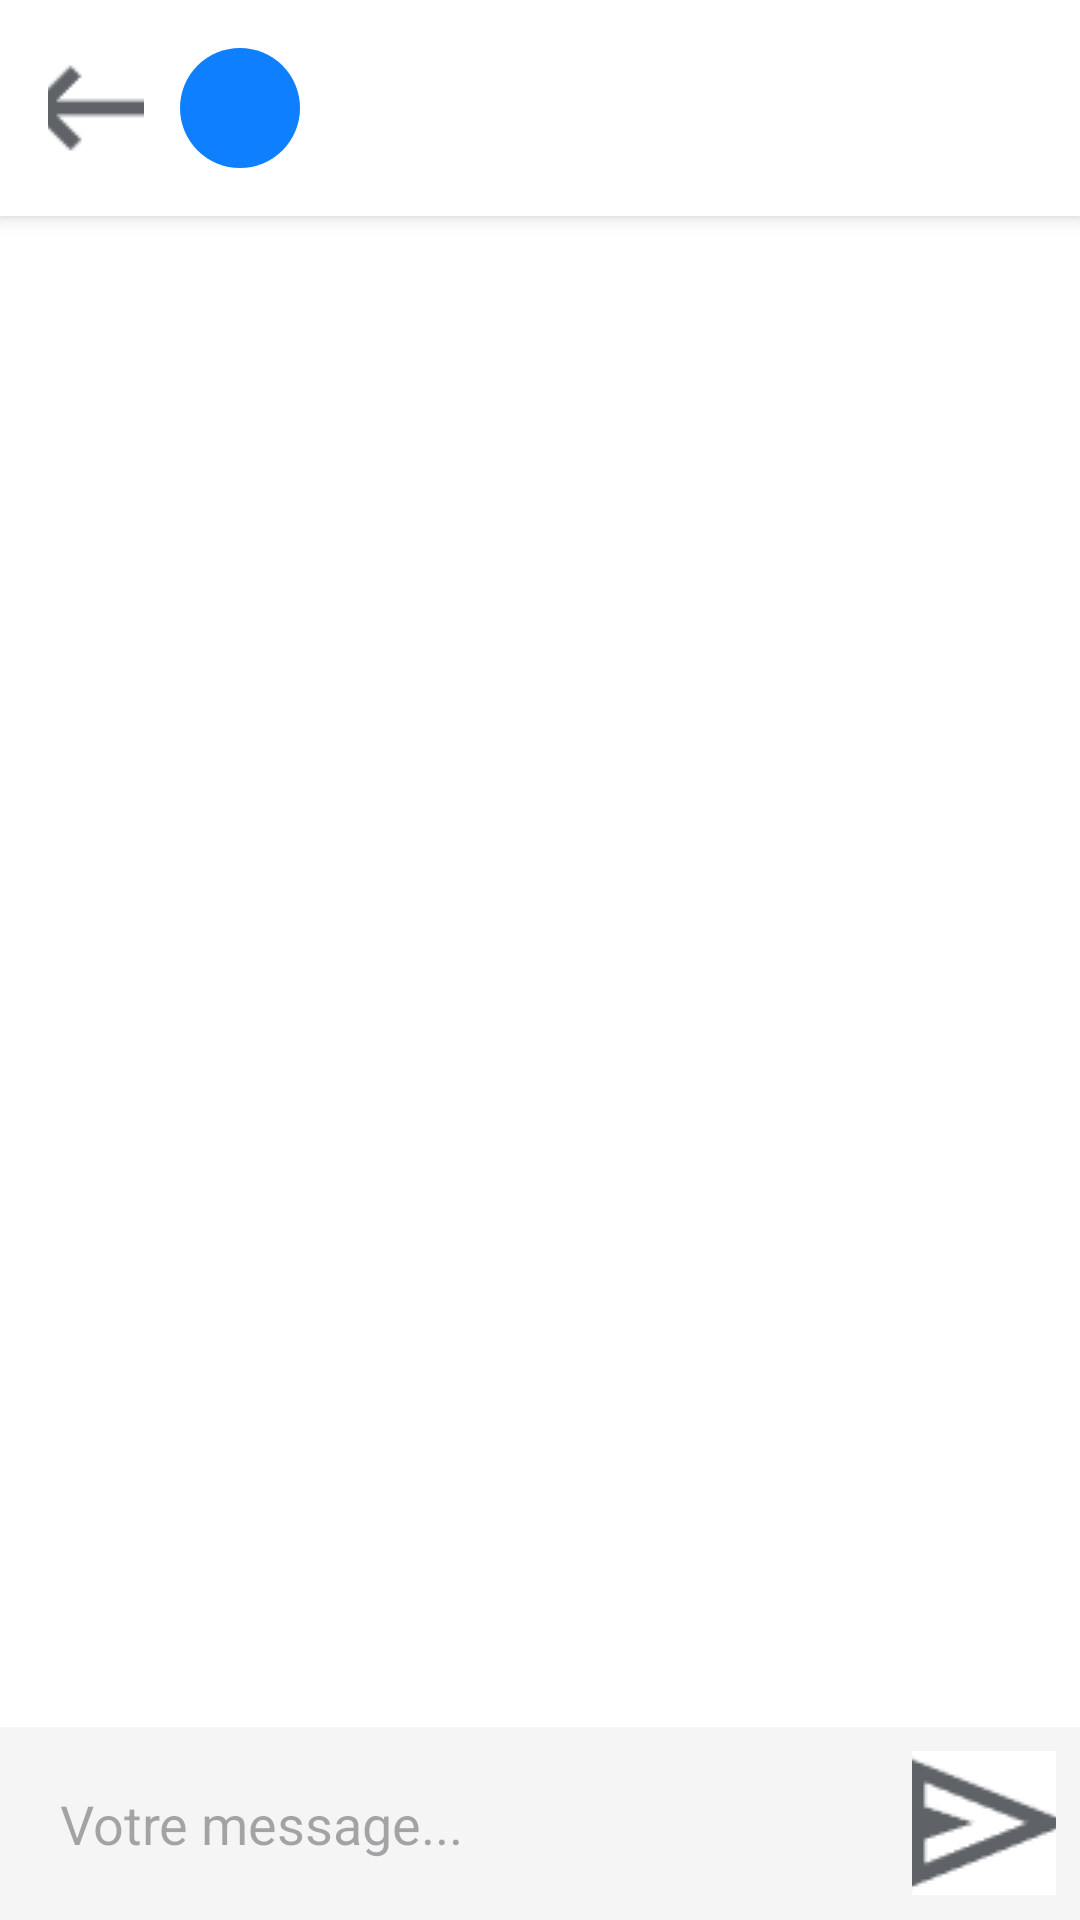

Icon click points for this 1080px x 1920px phone screenshot, format (x=x, y=y):
Envoyer: (x=984, y=1823)
Retour: (x=96, y=108)
